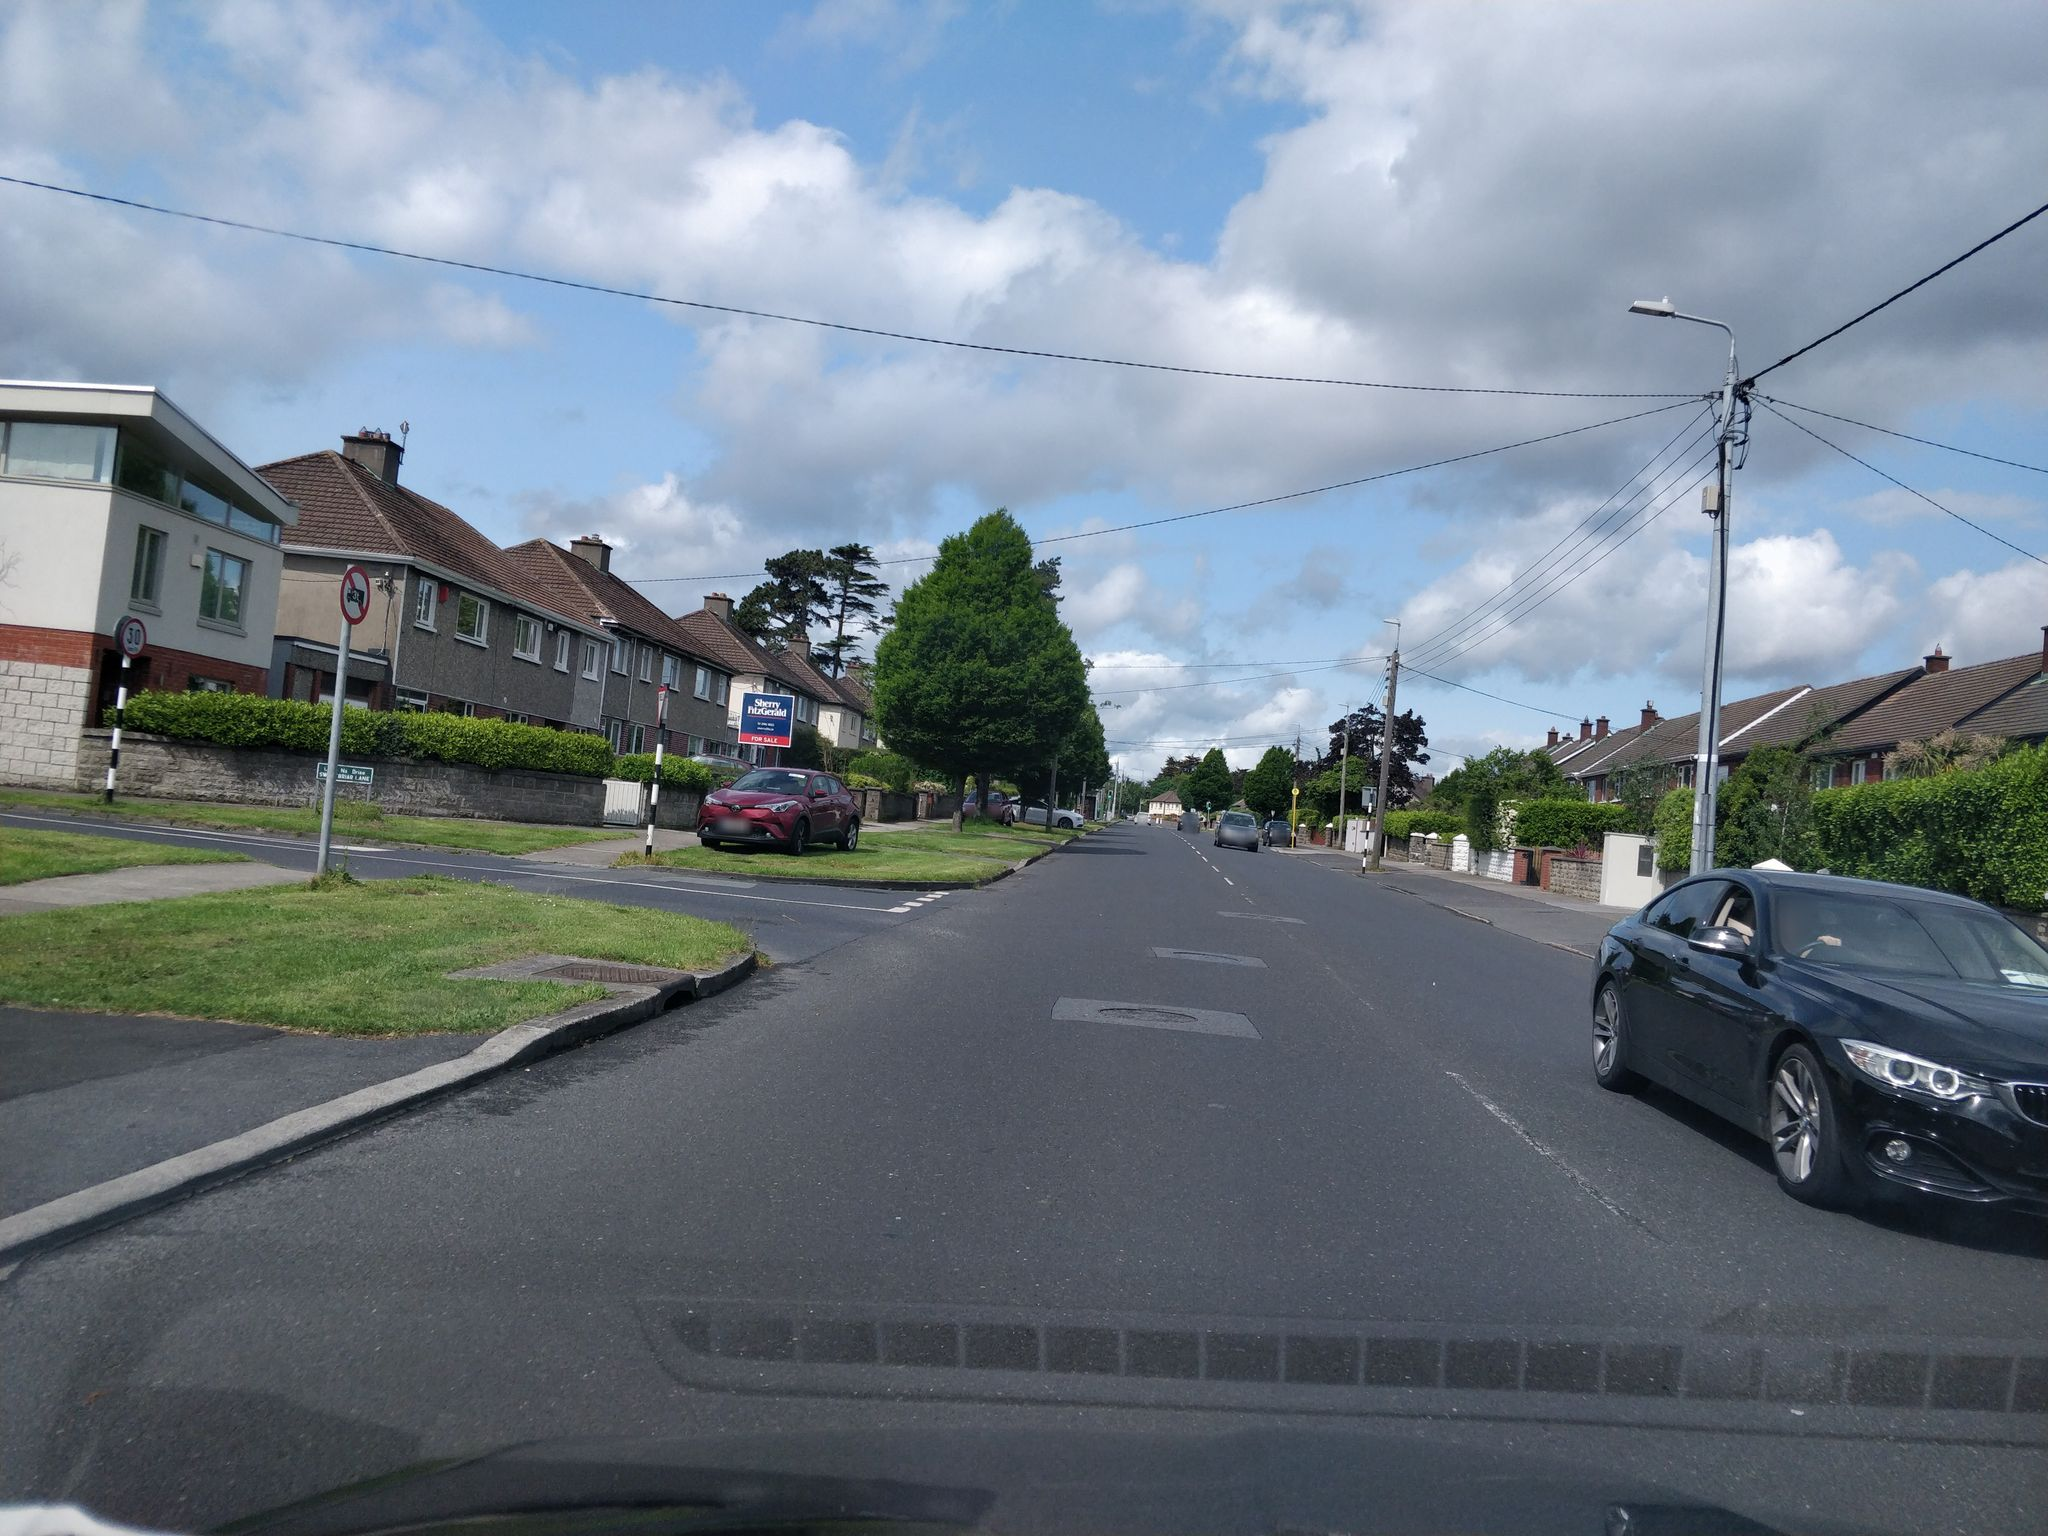property sign: (718, 671, 818, 765)
